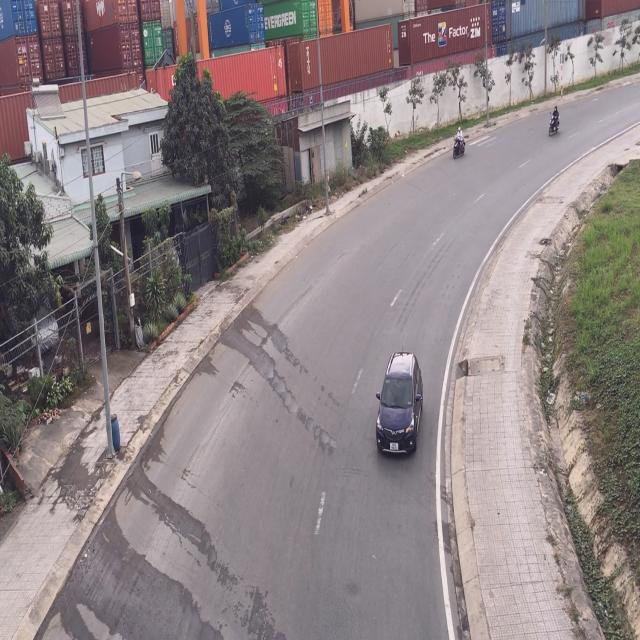car: (373, 353, 420, 459)
motorbike: (452, 124, 468, 160), (548, 104, 560, 136)
